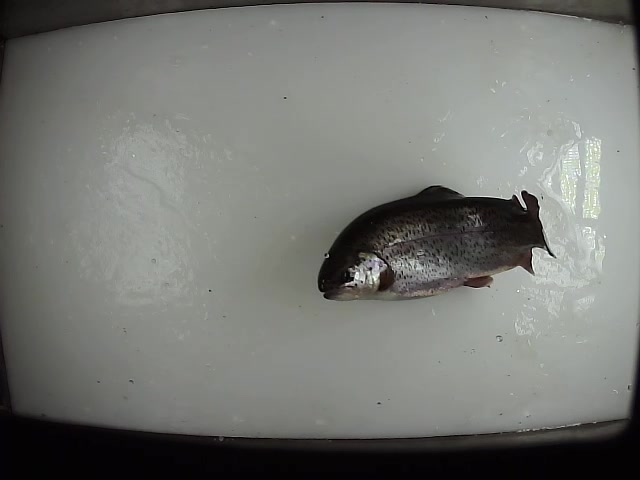fish: (316, 185, 557, 307)
